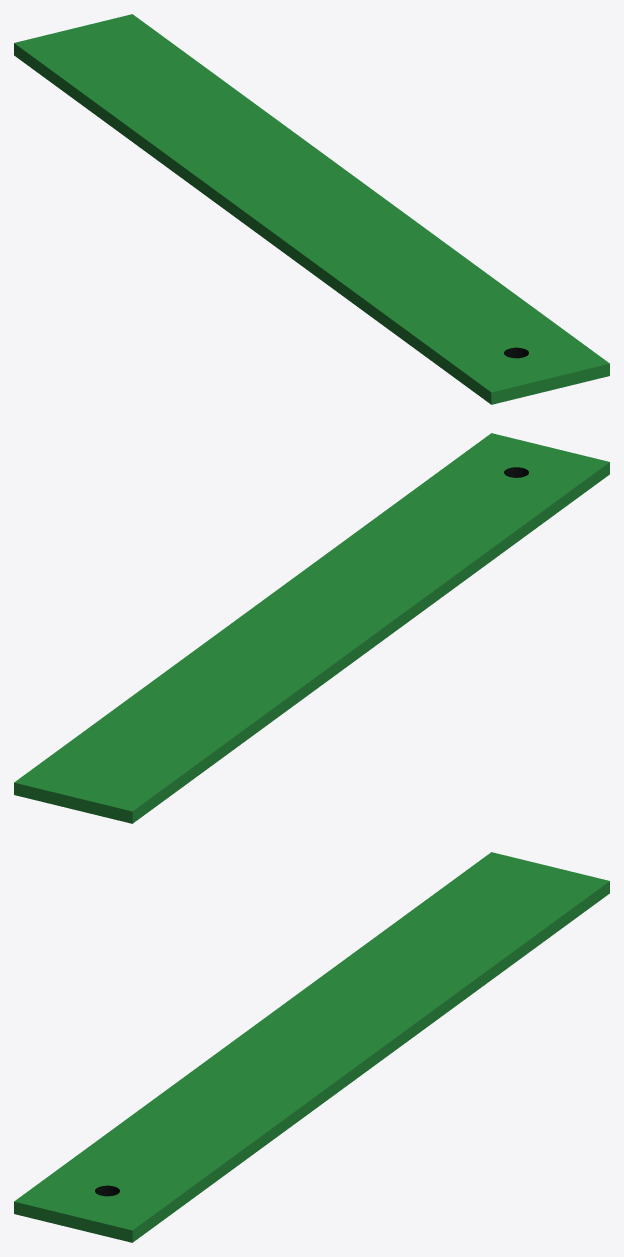
Rendered from GolfGreen_ContinuousCollider_11cm.obj.
The picture shows the model from 3 angles, top to bottom: view 1: azimuth 30°, elevation 25°; view 2: azimuth 150°, elevation 25°; view 3: azimuth 330°, elevation 25°; orthographic projection.
Parts seen in each view (by area): view 1: GolfGreen_ContinuousCollider_11cm; view 2: GolfGreen_ContinuousCollider_11cm; view 3: GolfGreen_ContinuousCollider_11cm.
Part boxes in pixels (x1,y1,x2,y2): GolfGreen_ContinuousCollider_11cm: (14,14,609,404); GolfGreen_ContinuousCollider_11cm: (14,433,609,823); GolfGreen_ContinuousCollider_11cm: (14,852,609,1242).
Bounding box in the file's own units: 0.6 × 0.06 × 4.19.
